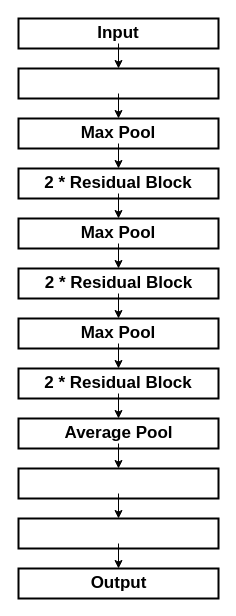
The diagram is 236 pixels wide and 616 high, and some of its shapes have lost their labels. The box of each missing label's shape, as (x1, y1, x2, y2) in pixels:
Convolution: (17, 67, 219, 99)
Flatten Layer: (17, 467, 219, 499)
Fully Connected: (17, 517, 219, 549)
